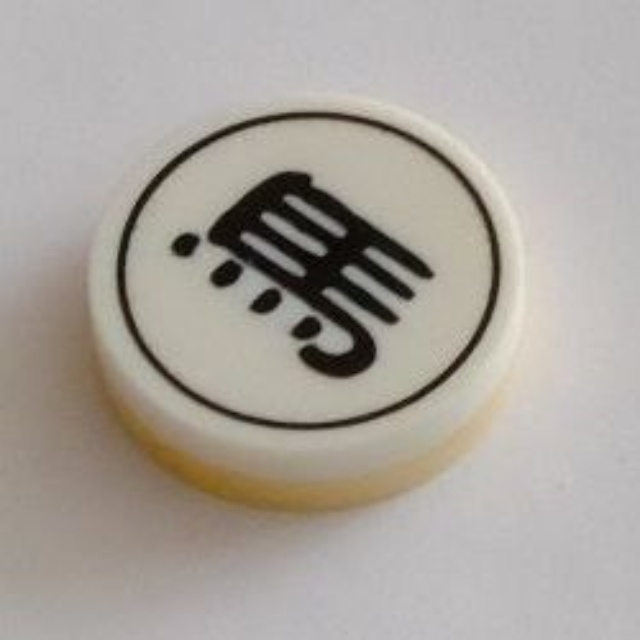black_ma: (80, 84, 531, 511)
